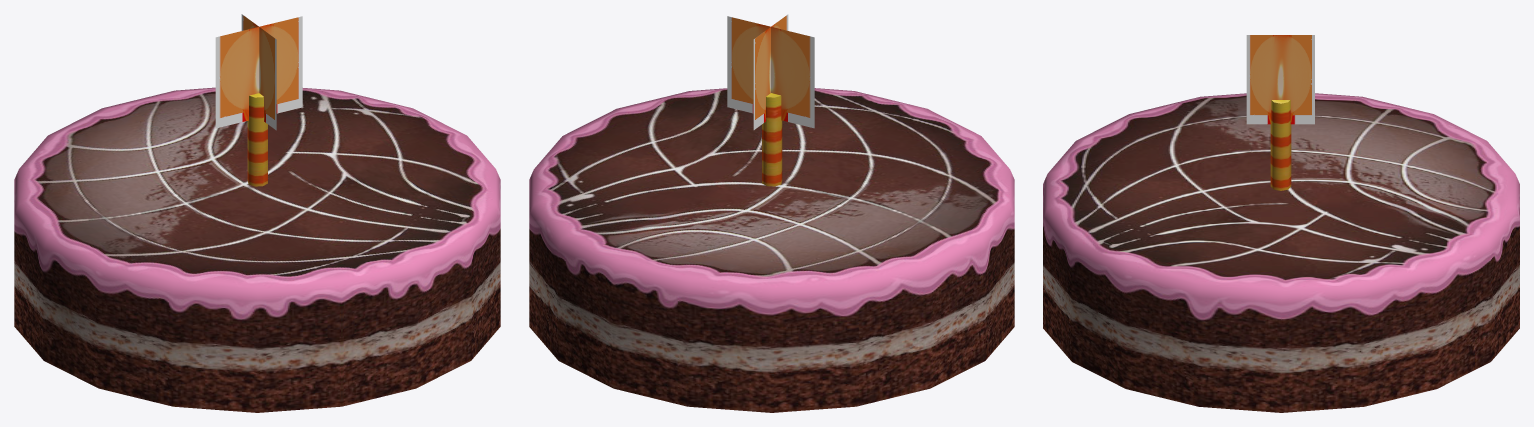
The model's file is cake01.dae.
3 views of the same model, side by side, from view 1: azimuth 30°, elevation 25°; view 2: azimuth 150°, elevation 25°; view 3: azimuth 270°, elevation 25° (orthographic).
Parts seen in each view (by area): view 1: Cylinder01, candleflame; view 2: Cylinder01, candleflame; view 3: Cylinder01, candleflame.
Part boxes in pixels (x1,y1,x2,y2): Cylinder01: [14, 87, 500, 412]; candleflame: [215, 14, 302, 130]; Cylinder01: [529, 88, 1014, 412]; candleflame: [727, 14, 814, 129]; Cylinder01: [1043, 93, 1519, 412]; candleflame: [1246, 35, 1314, 124].
Bounding box in the file's own units: 212 × 209 × 134.
2 materials, 2 textured.
